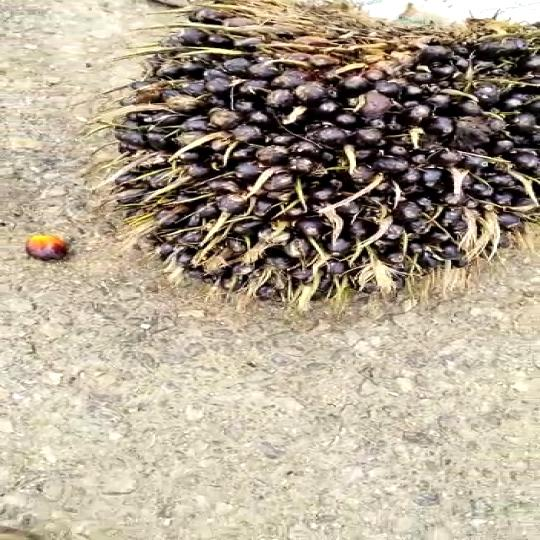mentah: (96, 6, 540, 310)
